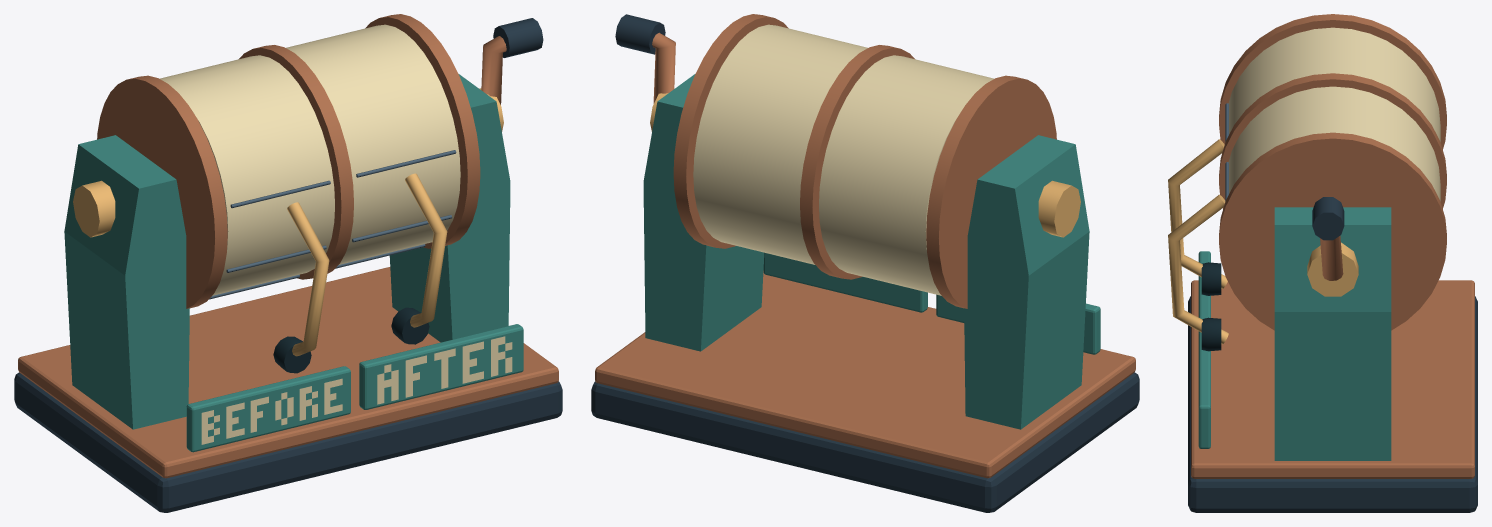
3 renders of one model, left to right at view 1: azimuth 30°, elevation 25°; view 2: azimuth 150°, elevation 25°; view 3: azimuth 270°, elevation 25°, orthographic. The views are drawn at different scales.
Parts seen in each view (by area): view 1: PR079 enamel and hardware; view 2: PR079 enamel and hardware; view 3: PR079 enamel and hardware.
Boxes of the visible parts, x1,y1,x2,y2 form: PR079 enamel and hardware: (14,14,562,512); PR079 enamel and hardware: (591,14,1139,512); PR079 enamel and hardware: (1168,14,1477,512).
Size of the model in its own units: 0.95 by 0.7295 by 0.594.
